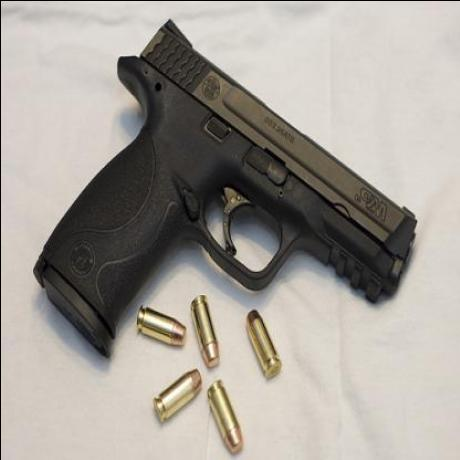weapon: (26, 22, 410, 366)
